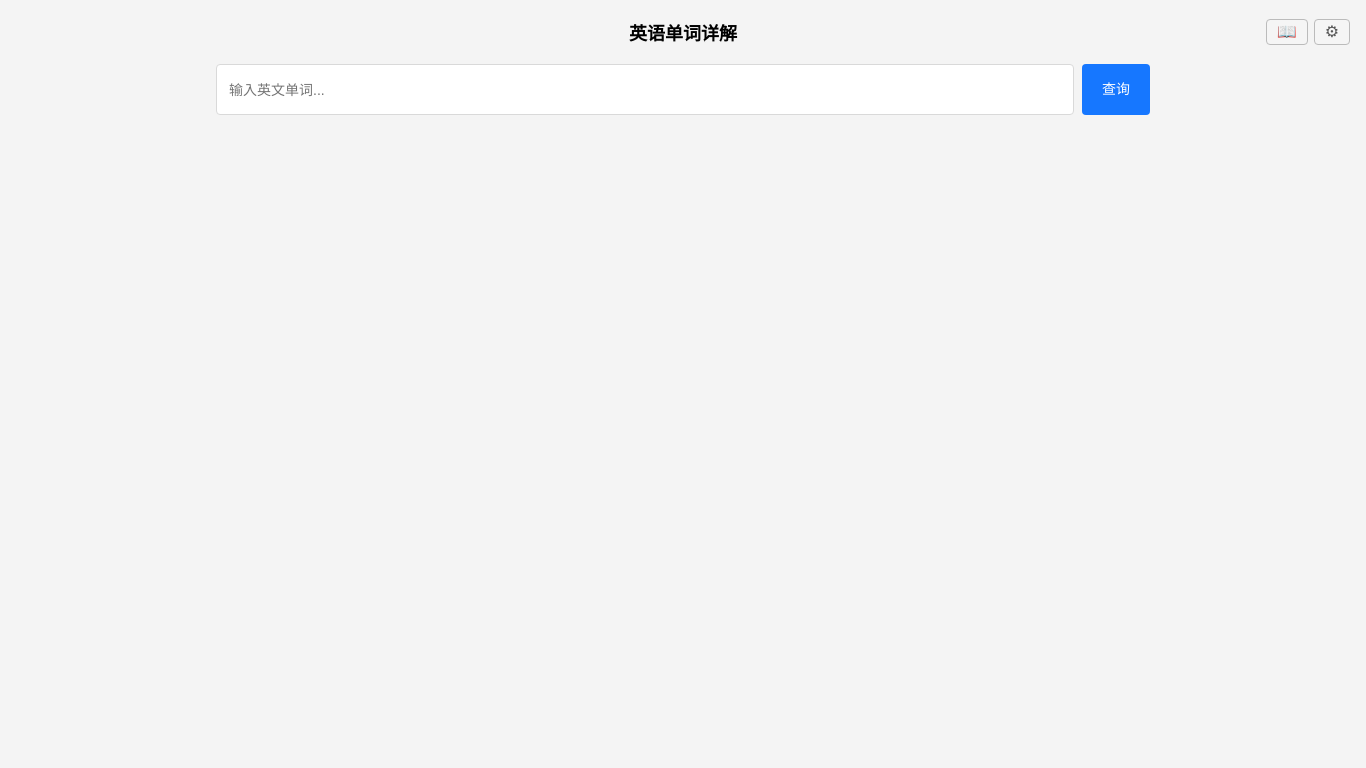
Test: MainPage 设置面板 › 设置页返回按钮显示 SVG 图标
Click the button titled "设置".
click(1332, 32)  # box top-left (1314, 19), bottom-right (1350, 45)
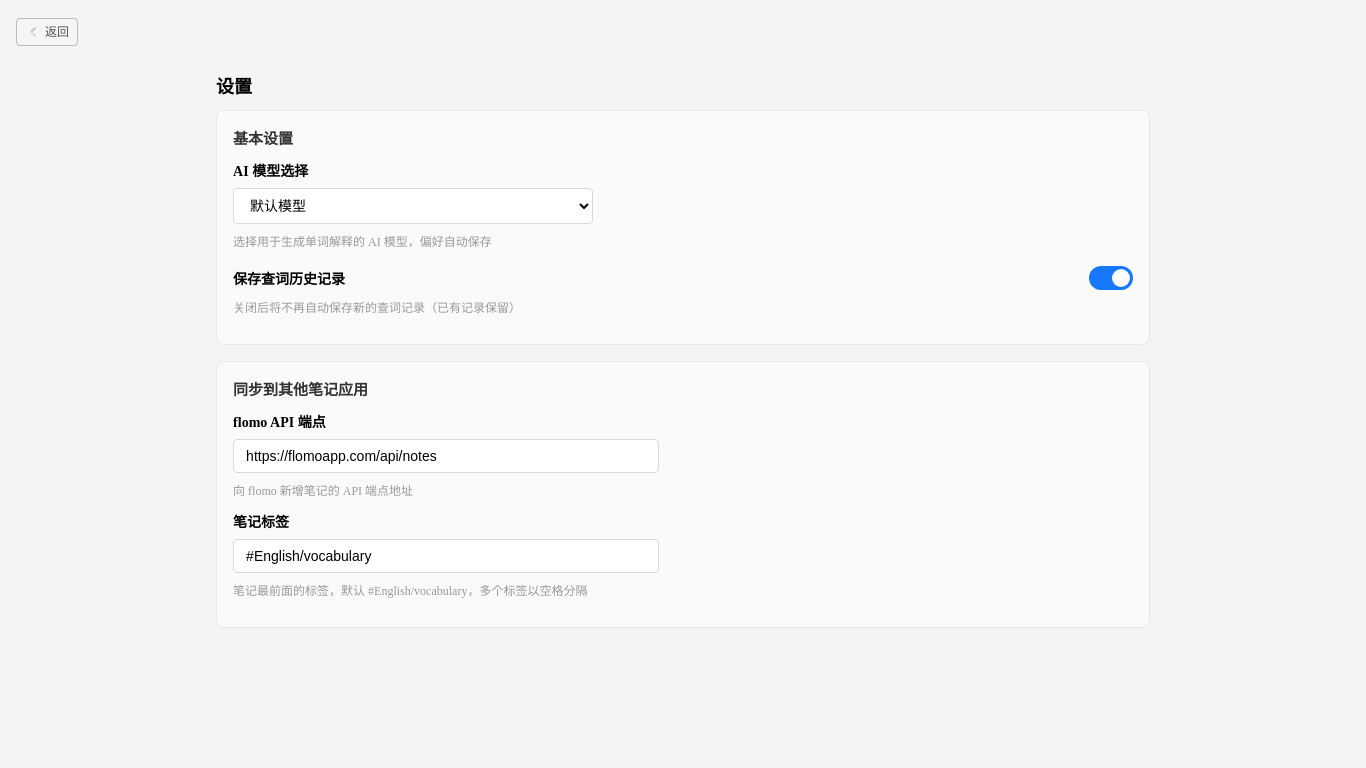
Result: the icon with class "back-icon" is shown at top-left (25, 24), bottom-right (41, 40)
